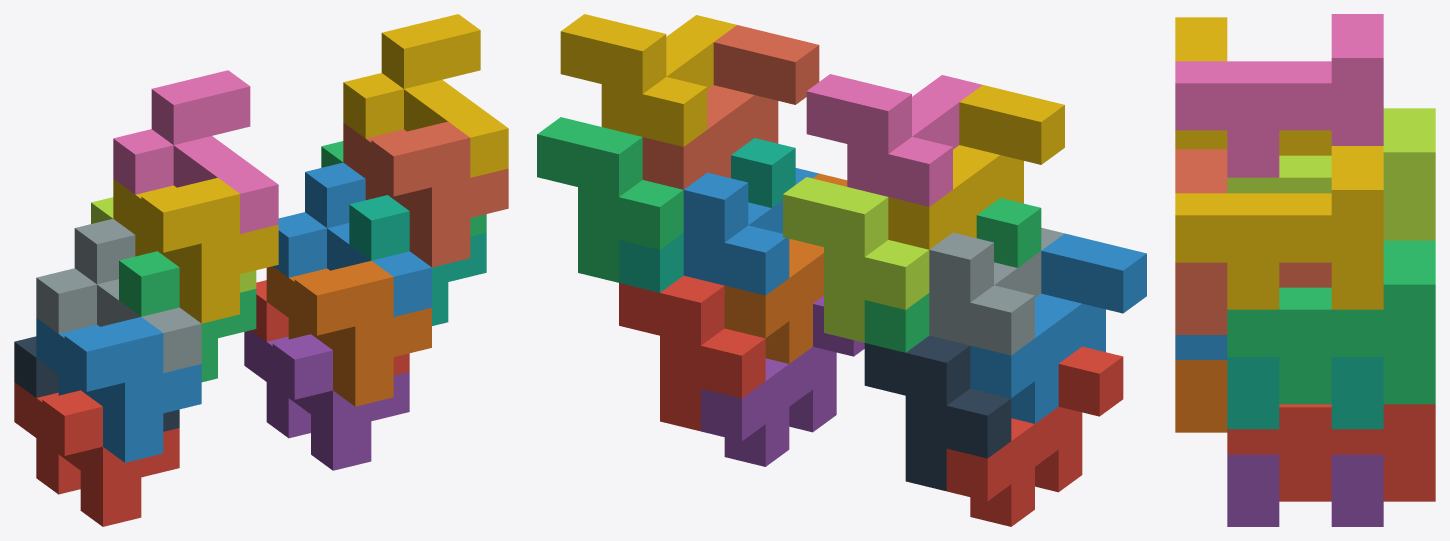
Rendered from tiling.obj.
The picture shows the model from 3 angles, left to right: view 1: azimuth 30°, elevation 25°; view 2: azimuth 150°, elevation 25°; view 3: azimuth 270°, elevation 25°; orthographic projection. The views are drawn at different scales.
Visible parts, largest first — view 1: copy_2_domain_8, copy_2_domain_4, copy_1_domain_8, copy_1_domain_2, copy_1_domain_6, copy_1_domain_4, copy_1_domain_1, copy_1_domain_5, copy_2_domain_2, copy_2_domain_6, copy_1_domain_3, copy_1_domain_7 (+4 smaller); view 2: copy_1_domain_2, copy_2_domain_8, copy_2_domain_4, copy_2_domain_7, copy_2_domain_3, copy_1_domain_8, copy_1_domain_4, copy_1_domain_1, copy_2_domain_1, copy_2_domain_5, copy_1_domain_5, copy_2_domain_2 (+4 smaller); view 3: copy_2_domain_8, copy_2_domain_4, copy_2_domain_7, copy_2_domain_5, copy_2_domain_3, copy_1_domain_5, copy_1_domain_7, copy_1_domain_8, copy_1_domain_4, copy_1_domain_6, copy_2_domain_6.
Boxes of the visible parts, x1,y1,x2,y2 form: copy_2_domain_8: (343, 14, 508, 177); copy_2_domain_4: (113, 70, 278, 233); copy_1_domain_8: (343, 121, 508, 267); copy_1_domain_2: (36, 317, 201, 462); copy_1_domain_6: (266, 260, 431, 406); copy_1_domain_4: (113, 177, 278, 323); copy_1_domain_1: (14, 382, 179, 526); copy_1_domain_5: (244, 330, 409, 470); copy_2_domain_2: (36, 219, 201, 372); copy_2_domain_6: (273, 162, 431, 316); copy_1_domain_3: (119, 251, 256, 382); copy_1_domain_7: (349, 195, 486, 325); copy_1_domain_2: (970, 233, 1146, 423); copy_2_domain_8: (560, 14, 736, 146); copy_2_domain_4: (806, 74, 982, 206); copy_2_domain_7: (537, 117, 683, 282); copy_2_domain_3: (783, 177, 929, 342); copy_1_domain_8: (642, 25, 819, 189); copy_1_domain_4: (888, 85, 1064, 249); copy_1_domain_1: (946, 346, 1123, 526); copy_2_domain_1: (864, 335, 1011, 491); copy_2_domain_5: (619, 275, 765, 431); copy_1_domain_5: (701, 296, 864, 466); copy_2_domain_2: (929, 227, 1064, 355); copy_2_domain_8: (1175, 146, 1383, 309); copy_2_domain_4: (1175, 14, 1383, 177); copy_2_domain_7: (1227, 240, 1435, 404); copy_2_domain_5: (1227, 404, 1435, 501); copy_2_domain_3: (1227, 108, 1435, 240); copy_1_domain_5: (1227, 454, 1383, 526); copy_1_domain_7: (1227, 357, 1383, 429); copy_1_domain_8: (1175, 149, 1331, 334); copy_1_domain_4: (1175, 17, 1331, 155); copy_1_domain_6: (1175, 360, 1227, 432); copy_2_domain_6: (1175, 335, 1227, 359).
Bounding box in the file's own units: 12 × 9 × 5.
